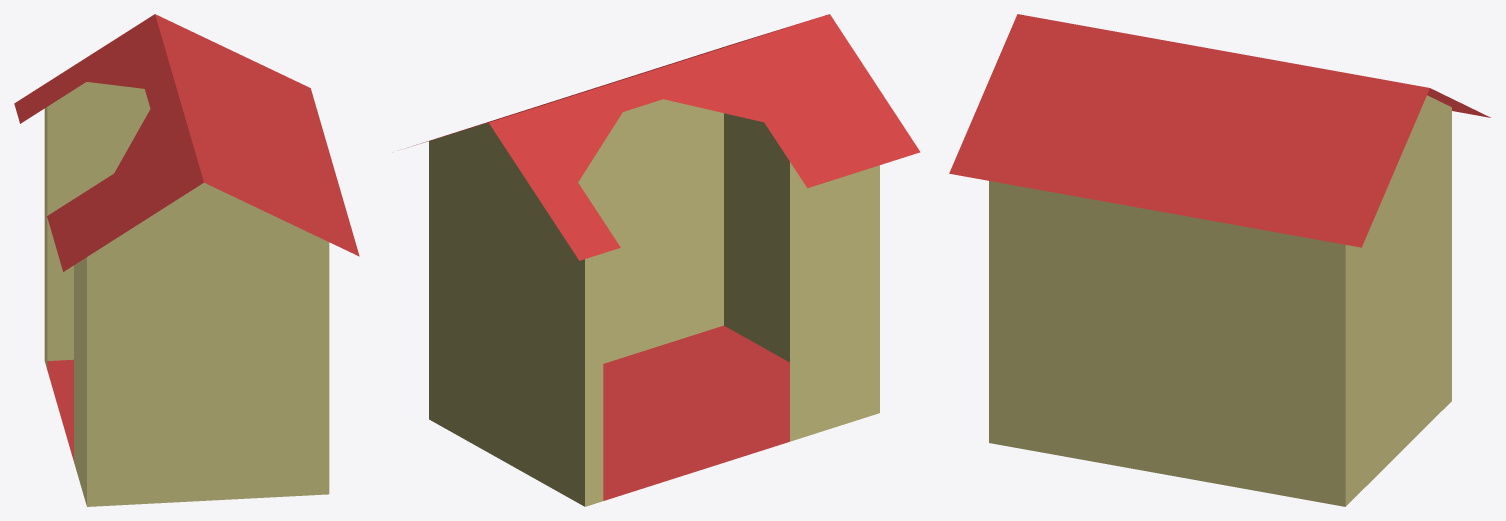
3 views of the same model, side by side, from view 1: azimuth 30°, elevation 25°; view 2: azimuth 150°, elevation 25°; view 3: azimuth 270°, elevation 25° (orthographic). The views are drawn at different scales.
Bounding box in the file's own units: 15.81 × 17.81 × 13.32.
